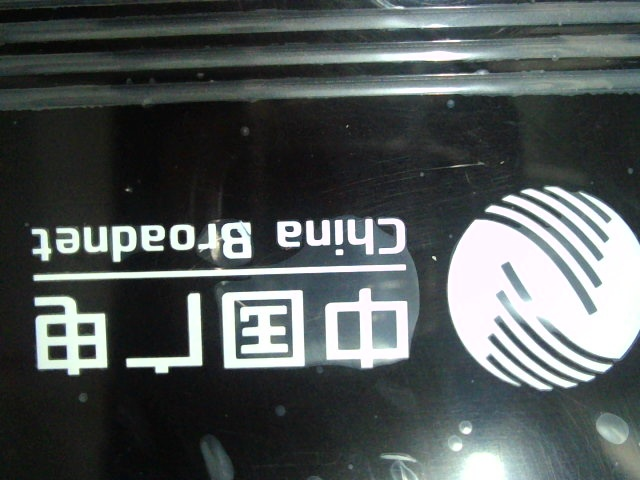AW_ChinaBroadNet: (25, 181, 638, 391)
